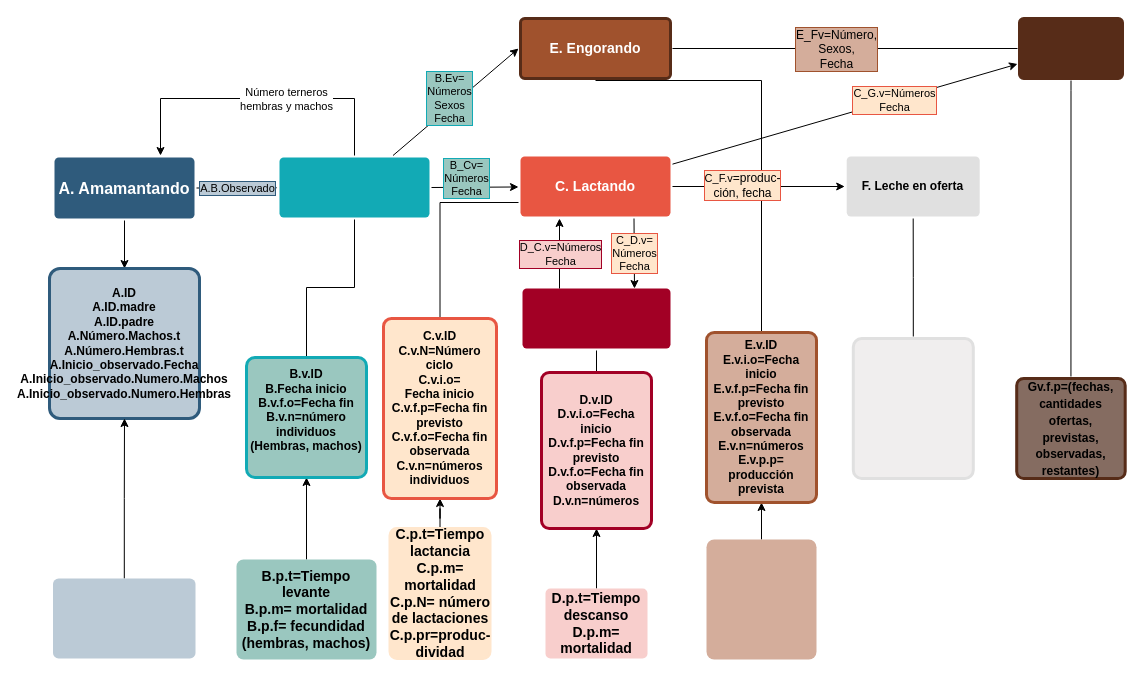
Image size: 1144x678. Some labels were removed from this diagram. The shapes that lost their labels are listed below. From the top down, each one's centre as x and y in pixels, then its label:
At (1071,48): "G. Animales en oferta".
At (354,187): "B. Levantando".
At (596,318): "D. Descansando".
At (912,408): "F.v.l =(fechas, en oferta, cantidades previstas, observadas, restantes)".
At (123,618): "A.p.t=Tiempo nacimiento-destete A.p.m=Mortalidad".
At (761,599): "E.p.t=Tiempo engorde E.p.m= mortalidad E.p.po=peso esperado a la oferta".
